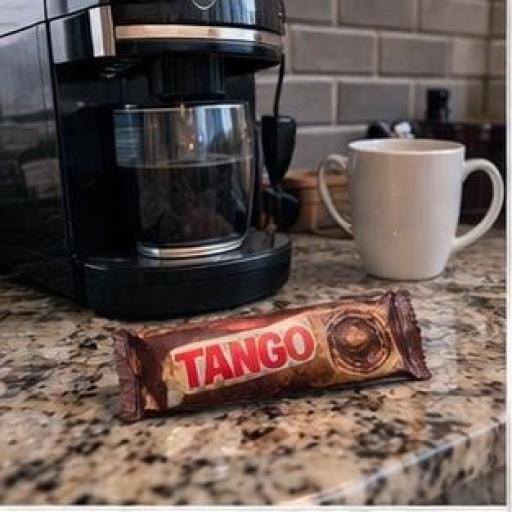tango: (90, 256, 473, 454)
